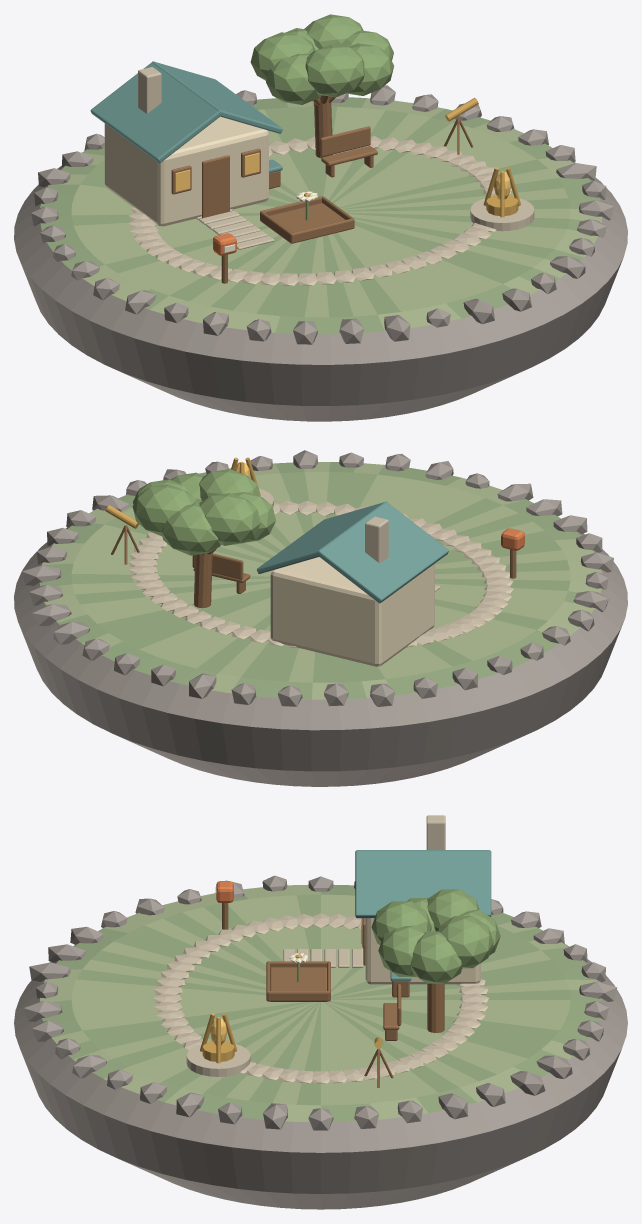
Rendered from HomeBlockout-v1.fbx.
3 renders of one model, top to bottom at view 1: azimuth 30°, elevation 25°; view 2: azimuth 150°, elevation 25°; view 3: azimuth 270°, elevation 25°, orthographic.
Visible parts, largest first — view 1: Ground_Surface, Cottage_Walls, Cottage_Roof, Canopy.005, Cottage_Roof.001, Canopy.004, Cottage_Door, Canopy.003, Canopy.006, Canopy.001, BeaconPlinth, Soil (+8 smaller); view 2: Ground_Surface, Cottage_Walls, Cottage_Roof, Cottage_Roof.001, Canopy.003, Canopy.002, Canopy.001, Canopy.005, Chimney, TreeTrunk, Canopy.004, BenchBack (+13 smaller); view 3: Ground_Surface, Cottage_Roof.001, Canopy, Canopy.001, Canopy.006, Cottage_Walls, Canopy.005, Soil, BeaconPlinth, Canopy.003, TreeTrunk, Chimney (+10 smaller).
Part boxes in pixels (bbox=[...]): Ground_Surface: bbox=[14, 97, 627, 421]; Cottage_Walls: bbox=[104, 116, 268, 226]; Cottage_Roof: bbox=[90, 61, 221, 163]; Canopy.005: bbox=[305, 44, 364, 97]; Cottage_Roof.001: bbox=[152, 61, 282, 133]; Canopy.004: bbox=[266, 53, 322, 104]; Cottage_Door: bbox=[202, 155, 229, 218]; Canopy.003: bbox=[250, 32, 315, 80]; Canopy.006: bbox=[346, 43, 393, 95]; Canopy.001: bbox=[304, 14, 363, 48]; BeaconPlinth: bbox=[470, 198, 534, 231]; Soil: bbox=[269, 203, 345, 232]; Ground_Surface: bbox=[14, 462, 627, 786]; Cottage_Walls: bbox=[270, 557, 434, 666]; Cottage_Roof: bbox=[317, 501, 448, 603]; Cottage_Roof.001: bbox=[257, 501, 387, 573]; Canopy.003: bbox=[199, 493, 260, 545]; Canopy.002: bbox=[162, 502, 221, 555]; Canopy.001: bbox=[132, 484, 196, 536]; Canopy.005: bbox=[199, 469, 260, 500]; Chimney: bbox=[365, 516, 388, 563]; TreeTrunk: bbox=[194, 552, 212, 608]; Canopy.004: bbox=[232, 492, 275, 542]; BenchBack: bbox=[192, 553, 243, 579]; Ground_Surface: bbox=[14, 884, 627, 1209]; Cottage_Roof.001: bbox=[355, 850, 491, 918]; Canopy: bbox=[410, 931, 462, 983]; Canopy.001: bbox=[437, 916, 493, 968]; Canopy.006: bbox=[378, 925, 427, 976]; Cottage_Walls: bbox=[365, 918, 480, 984]; Canopy.005: bbox=[371, 901, 431, 944]; Soil: bbox=[270, 967, 326, 1001]; BeaconPlinth: bbox=[186, 1044, 250, 1076]; Canopy.003: bbox=[427, 889, 479, 931]; TreeTrunk: bbox=[427, 983, 444, 1032]; Chimney: bbox=[426, 815, 445, 849].
Bounding box in the file's own units: 1920 × 935 × 1920.
